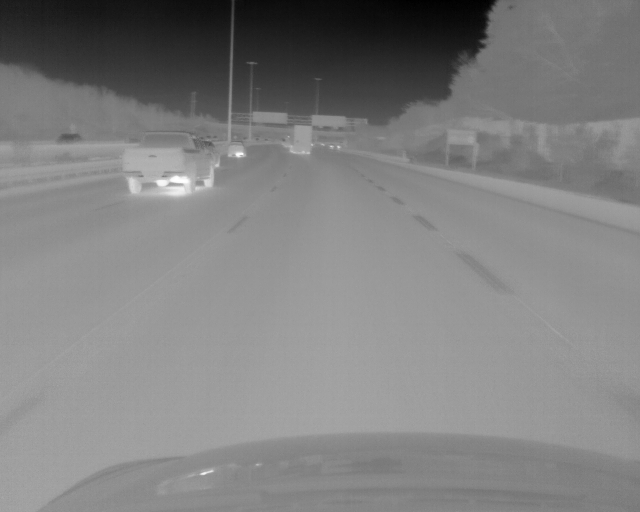car: (123, 131, 214, 194), (289, 126, 310, 154), (202, 140, 220, 168), (54, 132, 85, 146), (228, 141, 246, 158)
